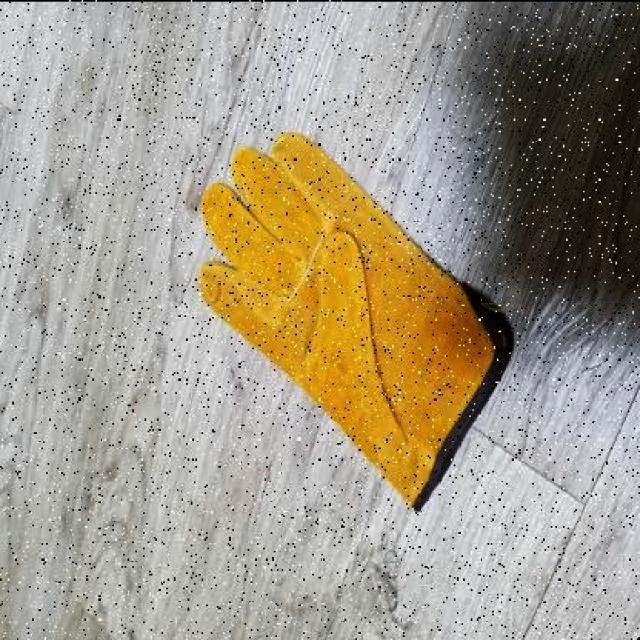Guantes: (196, 130, 513, 512)
